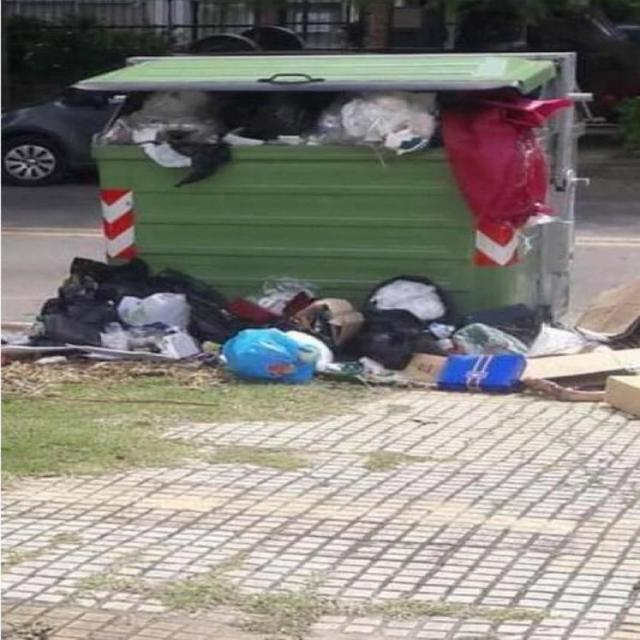garbage: (19, 252, 639, 413), (92, 92, 576, 238)
